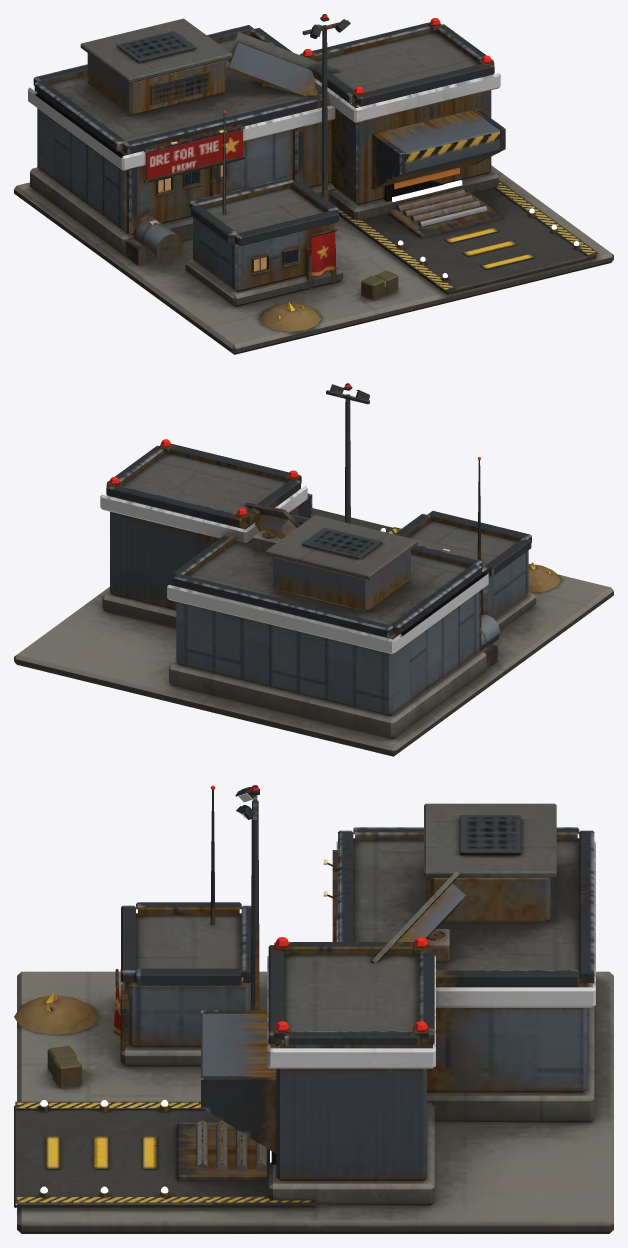
The model's file is mout.soviet.glb.
3 renders of one model, top to bottom at view 1: azimuth 30°, elevation 25°; view 2: azimuth 150°, elevation 25°; view 3: azimuth 270°, elevation 25°, orthographic. The views are drawn at different scales.
Visible parts, largest first — view 1: root_mesh, roll3_mesh, roll0_mesh, roll2_mesh, roll1_mesh; view 2: root_mesh; view 3: root_mesh, roll3_mesh.
Boxes of the visible parts, box(x1,y1,x2,y2) form: root_mesh: box(14, 14, 613, 354); roll3_mesh: box(417, 204, 487, 227); roll0_mesh: box(395, 188, 465, 211); roll2_mesh: box(410, 199, 479, 222); roll1_mesh: box(403, 194, 472, 216); root_mesh: box(14, 383, 613, 756); root_mesh: box(14, 785, 613, 1233); roll3_mesh: box(196, 1119, 208, 1170).
Bounding box in the file's own units: 1.98 × 1.16 × 1.99.
Materials: 3 (1 with a texture image).
